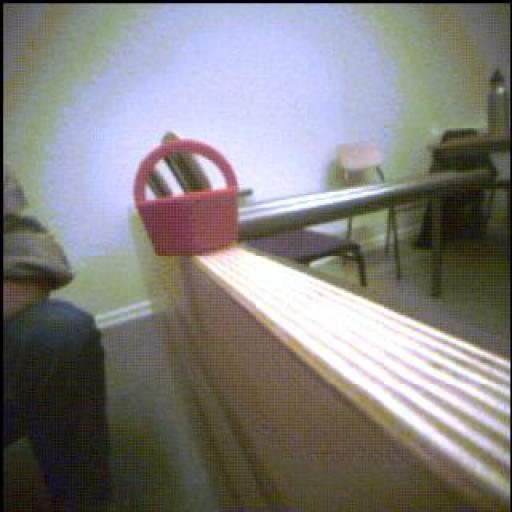Bucket: (136, 140, 240, 257)
